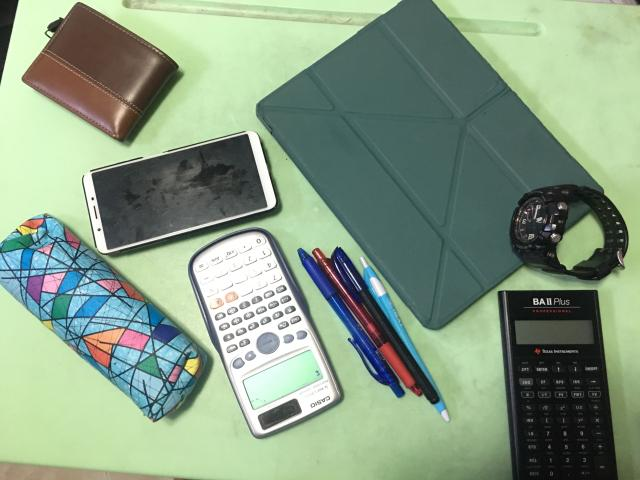Mobile phone: (82, 131, 278, 254)
Pen: (297, 245, 452, 427)
Wallet: (22, 2, 179, 140)
Watch: (256, 0, 606, 329), (510, 184, 629, 280)
